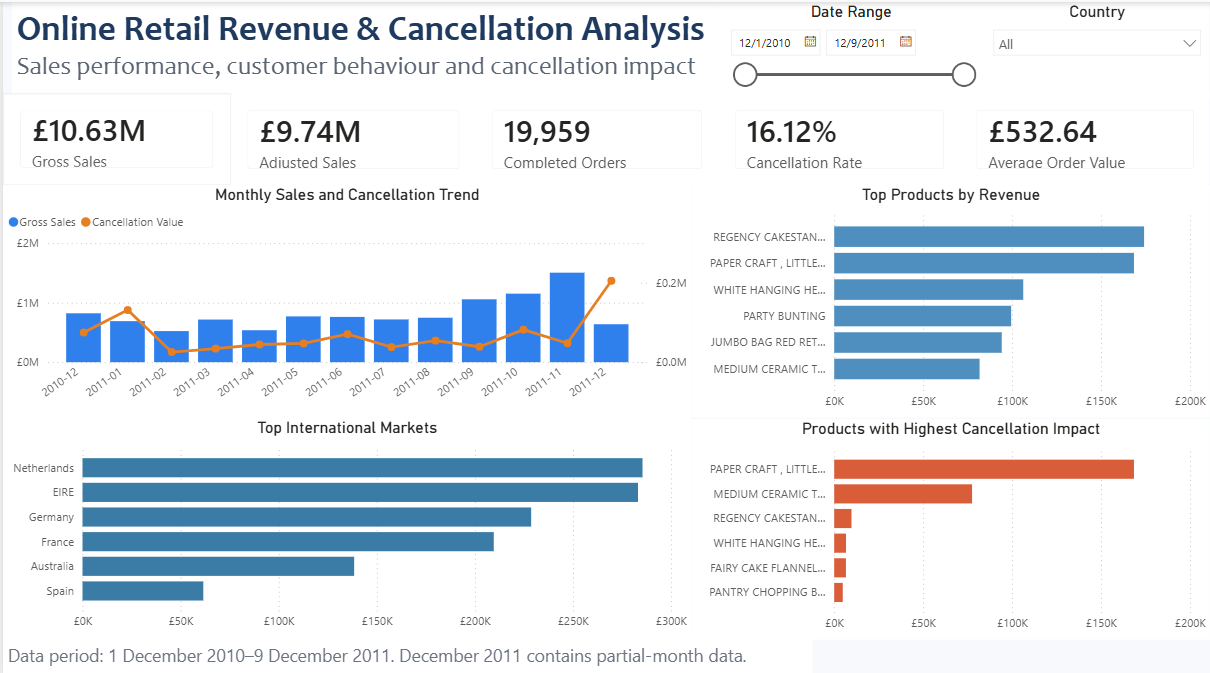

What the dashboard file says about the page in this screenshot:
{"tool":"powerbi","page":{"name":"Page 1","canvas":[1280,720],"ordinal":0},"visuals":[{"type":"textbox","box":[9.5,0,749.2,97],"z":0},{"type":"slicer","title":"Date Range","fields":{"Values":["DateTable.Date"]},"box":[758.7,0,281.5,97],"z":1000},{"type":"slicer","title":"Country","fields":{"Values":["CountryTable.Country"]},"box":[1040.3,0,240.2,101.8],"z":2000},{"type":"cardVisual","fields":{"Data":["sales_transactions.Gross Sales"]},"box":[0,97,241.8,97],"z":3000},{"type":"cardVisual","fields":{"Data":["cancelled_transactions.Adjusted Sales"]},"box":[241.8,97,259.3,97],"z":4000},{"type":"cardVisual","fields":{"Data":["sales_transactions.Average Order Value"]},"box":[1014.8,97,265.6,97],"z":5000},{"type":"cardVisual","fields":{"Data":["sales_transactions.Completed Orders"]},"box":[501,97,257.7,97],"z":6000},{"type":"cardVisual","fields":{"Data":["cancelled_transactions.Cancellation Rate"]},"box":[758.7,97,256.1,97],"z":7000},{"type":"lineClusteredColumnComboChart","title":"Monthly Sales and Cancellation Trend","fields":{"Y":["sales_transactions.Gross Sales"],"Category":["DateTable.Year Month"],"Y2":["cancelled_transactions.Cancellation Value"]},"box":[0,194.1,730.1,246.5],"z":8000},{"type":"clusteredBarChart","title":"Top International Markets","fields":{"Category":["CountryTable.Country"],"Y":["sales_transactions.Gross Sales"]},"box":[0,440.6,730.1,233.8],"z":9000},{"type":"clusteredBarChart","title":"Top Products by Revenue","fields":{"Category":["sales_transactions.Description"],"Y":["sales_transactions.Gross Sales"]},"box":[730.1,194.1,550.4,246.5],"z":10000},{"type":"clusteredBarChart","title":"Products with Highest Cancellation Impact","fields":{"Category":["cancelled_transactions.Description"],"Y":["cancelled_transactions.Cancellation Value"]},"box":[730.1,442.2,550.4,233.8],"z":11000},{"type":"textbox","box":[0,674.4,858.9,46.1],"z":12000}]}

Visuals, with their boxes in screenshot pixels (x1, y1, x2, y2), scaled from the page's 1280x720 canvas onto the 1210x673 screenshot:
textbox: x1=9, y1=0, x2=717, y2=91
"Date Range" slicer: x1=717, y1=0, x2=983, y2=91
"Country" slicer: x1=983, y1=0, x2=1209, y2=95
cardVisual - sales_transactions.Gross Sales: x1=0, y1=91, x2=229, y2=181
cardVisual - cancelled_transactions.Adjusted Sales: x1=229, y1=91, x2=474, y2=181
cardVisual - sales_transactions.Average Order Value: x1=959, y1=91, x2=1209, y2=181
cardVisual - sales_transactions.Completed Orders: x1=474, y1=91, x2=717, y2=181
cardVisual - cancelled_transactions.Cancellation Rate: x1=717, y1=91, x2=959, y2=181
"Monthly Sales and Cancellation Trend" lineClusteredColumnComboChart: x1=0, y1=181, x2=690, y2=412
"Top International Markets" clusteredBarChart: x1=0, y1=412, x2=690, y2=630
"Top Products by Revenue" clusteredBarChart: x1=690, y1=181, x2=1209, y2=412
"Products with Highest Cancellation Impact" clusteredBarChart: x1=690, y1=413, x2=1209, y2=632
textbox: x1=0, y1=630, x2=812, y2=672
